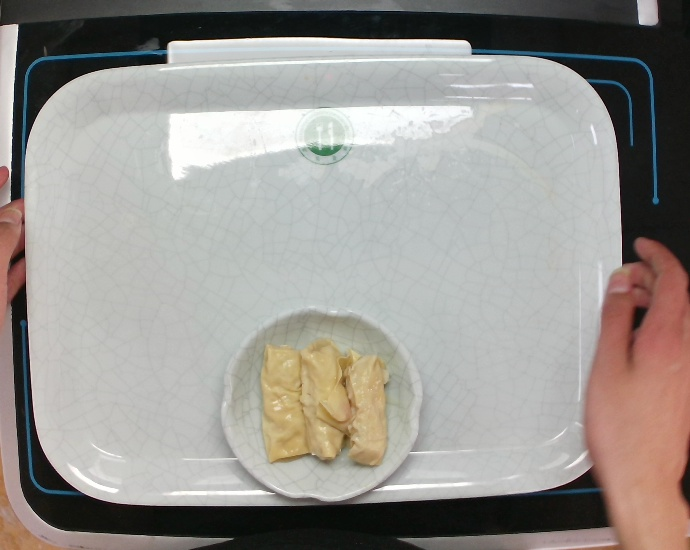JYsf-Ao_Yuan_Wan: (218, 302, 425, 503)
